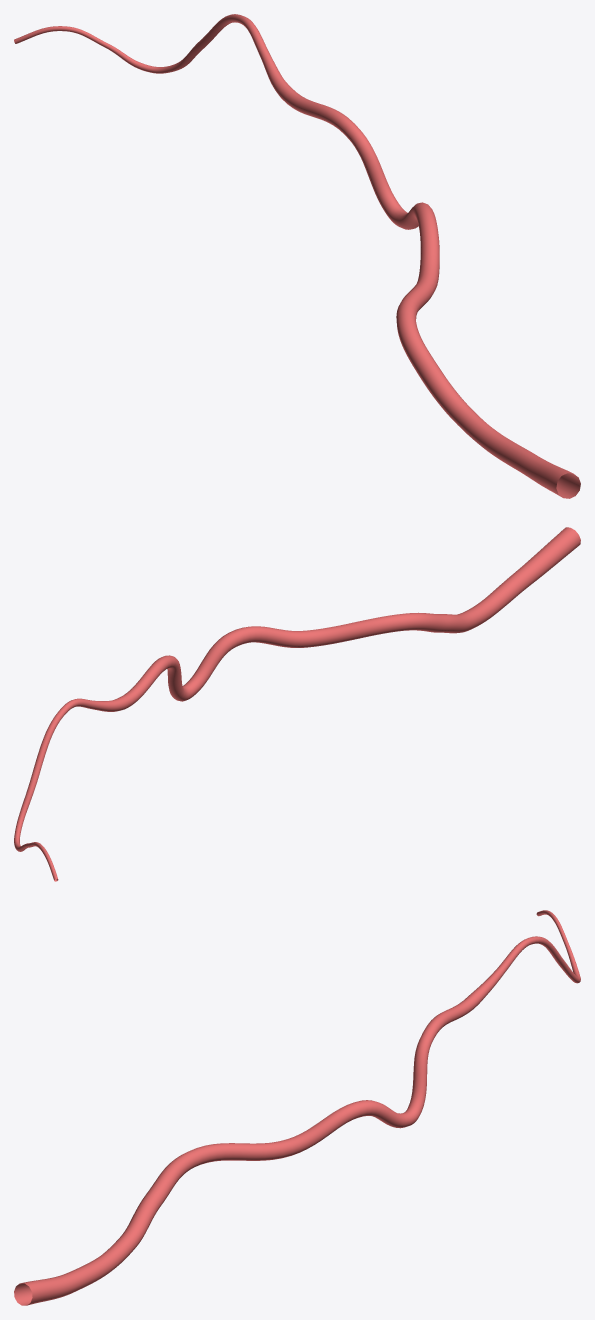
Rendered from Medial_occipital_artery.r_BezierCurve.213.glb.
3 views of the same model, one above another, from view 1: azimuth 30°, elevation 25°; view 2: azimuth 150°, elevation 25°; view 3: azimuth 330°, elevation 25° (orthographic). The views are drawn at different scales.
Visible parts, largest first — view 1: Medial_occipital_artery.r_BezierCurve.213; view 2: Medial_occipital_artery.r_BezierCurve.213; view 3: Medial_occipital_artery.r_BezierCurve.213.
Boxes of the visible parts, left/top/right/bottom form: Medial_occipital_artery.r_BezierCurve.213: left=14, top=14, right=580, bottom=498; Medial_occipital_artery.r_BezierCurve.213: left=14, top=527, right=580, bottom=881; Medial_occipital_artery.r_BezierCurve.213: left=14, top=910, right=580, bottom=1305.
Size of the model in its own units: 0.0107 by 0.00933 by 0.0689.
